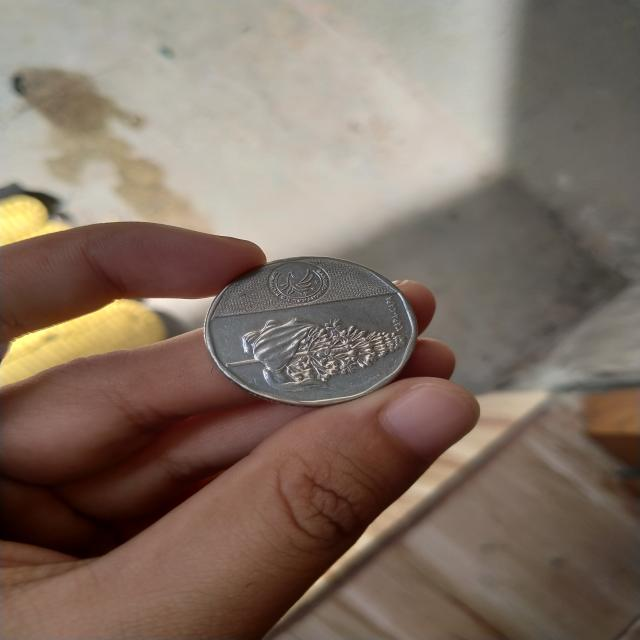10_New_Back: (218, 314, 410, 394)
